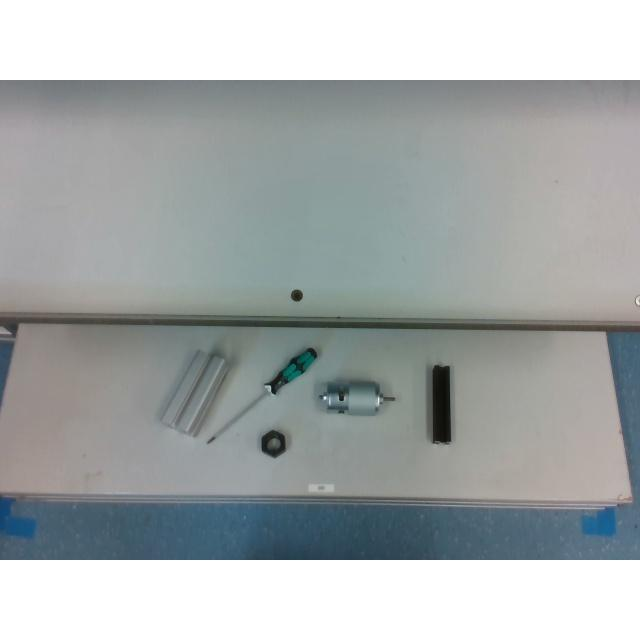F20_20_B: (432, 364, 452, 444)
M20: (262, 430, 286, 458)
Motor2: (319, 381, 396, 415)
S40_40_G: (160, 351, 228, 435)
Screwdriver: (205, 348, 317, 444)
